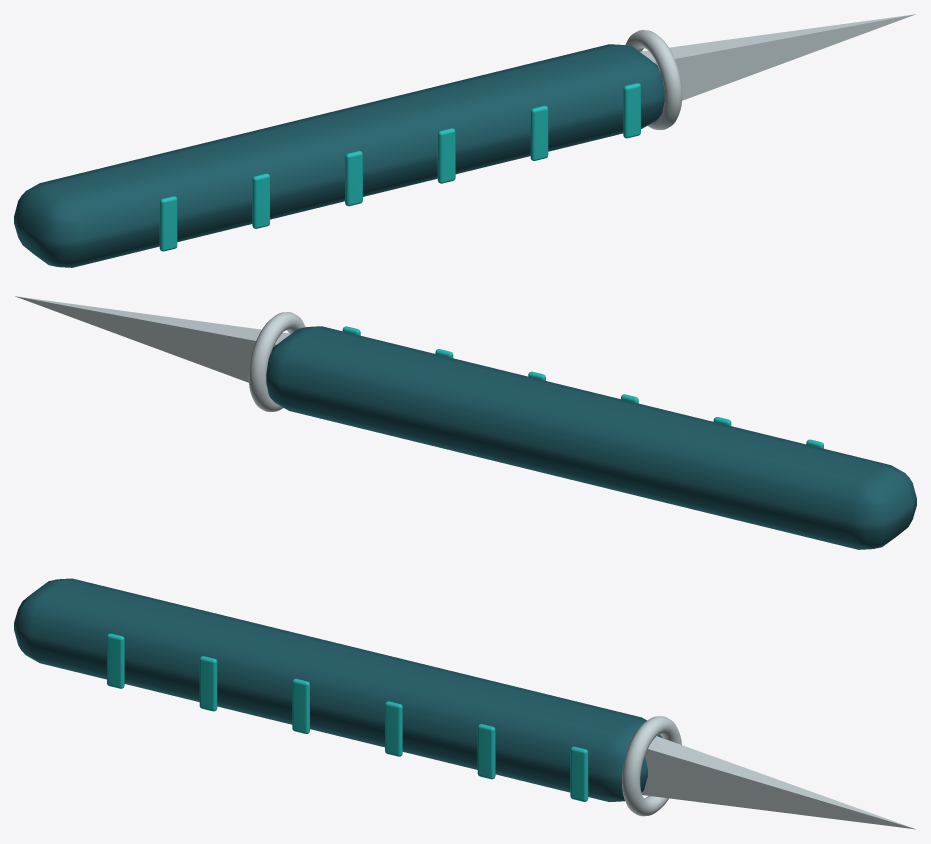
Rendered from Bisturi.fbx.
3 views of the same model, one above another, from view 1: azimuth 30°, elevation 25°; view 2: azimuth 150°, elevation 25°; view 3: azimuth 330°, elevation 25° (orthographic).
Parts seen in each view (by area): view 1: Mango, Hoja, Aro, Estria_01, Estria_04, Estria_05, Estria_06, Estria_02, Estria_03; view 2: Mango, Hoja, Aro; view 3: Mango, Hoja, Aro, Estria_05, Estria_02, Estria_06, Estria_03, Estria_04, Estria_01.
Part boxes in pixels (x1,y1,x2,y2): Mango: [14, 44, 664, 267]; Hoja: [640, 14, 915, 100]; Aro: [625, 30, 682, 129]; Estria_01: [159, 196, 177, 251]; Estria_04: [437, 128, 455, 183]; Estria_05: [530, 105, 548, 160]; Estria_06: [623, 83, 640, 138]; Estria_02: [252, 173, 269, 228]; Estria_03: [345, 151, 362, 206]; Mango: [266, 326, 916, 549]; Hoja: [15, 296, 290, 382]; Aro: [248, 312, 305, 411]; Mango: [14, 578, 662, 801]; Hoja: [641, 736, 915, 829]; Aro: [622, 716, 681, 816]; Estria_05: [477, 724, 495, 779]; Estria_02: [199, 656, 217, 711]; Estria_06: [570, 746, 588, 801]; Estria_03: [292, 678, 309, 733]; Estria_04: [385, 701, 402, 756]; Estria_01: [107, 633, 124, 688].
Size of the model in its own units: 1.34 by 0.134 by 0.1405.
